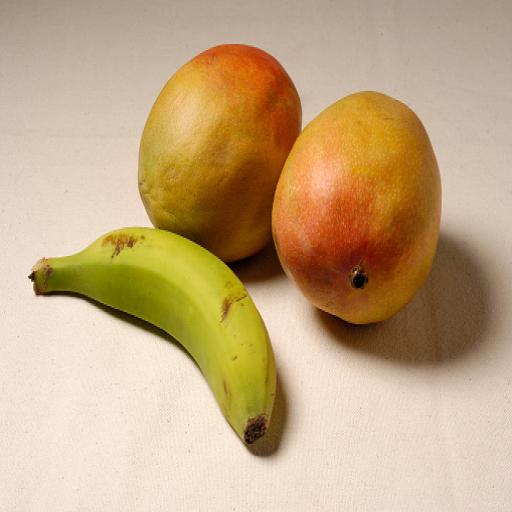banana: (30, 228, 276, 443)
mango: (273, 93, 441, 324), (138, 44, 301, 262)
